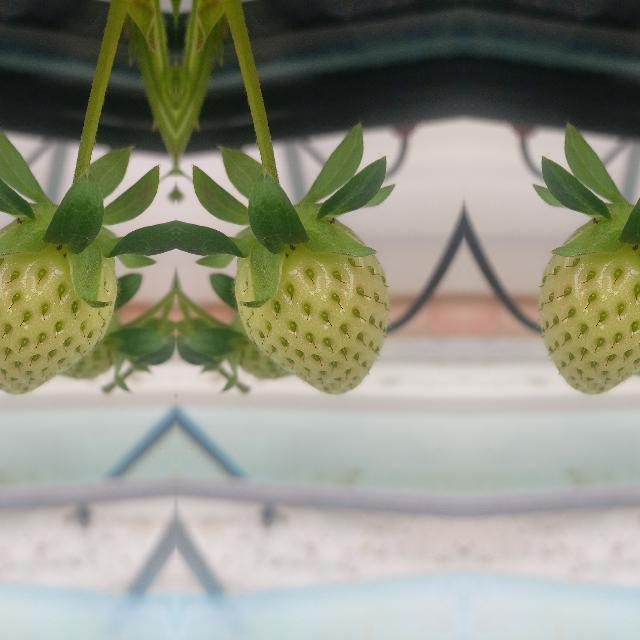Health_25: (235, 216, 388, 394), (0, 216, 115, 393), (538, 216, 640, 393)
